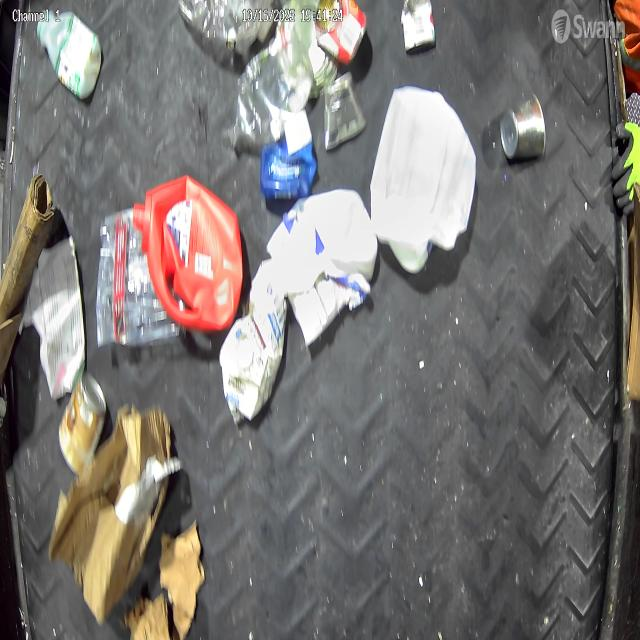can: (58, 370, 108, 476), (313, 0, 369, 68), (322, 71, 367, 152), (499, 92, 547, 162), (402, 0, 436, 54)
milk_jug: (369, 85, 478, 273), (305, 187, 378, 280)
non_white_jug: (132, 175, 243, 332)
plastic_bottle: (228, 26, 312, 150)
